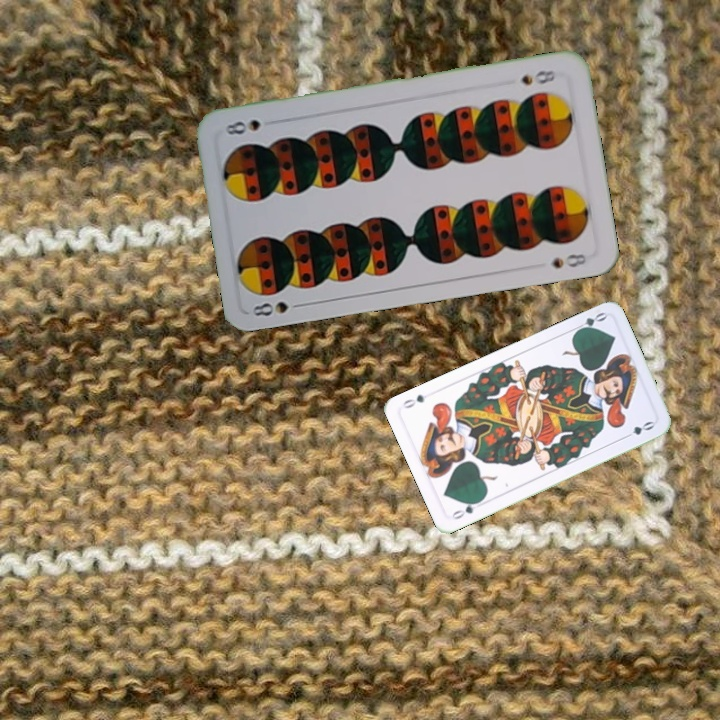GO: (569, 308, 609, 336), (448, 496, 484, 522)
S8: (248, 297, 307, 319), (517, 66, 560, 88)
